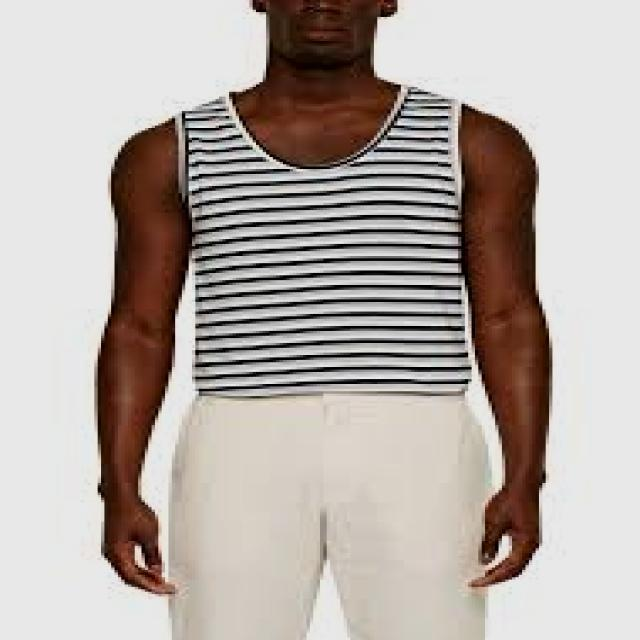no_vest: (176, 82, 474, 398)
